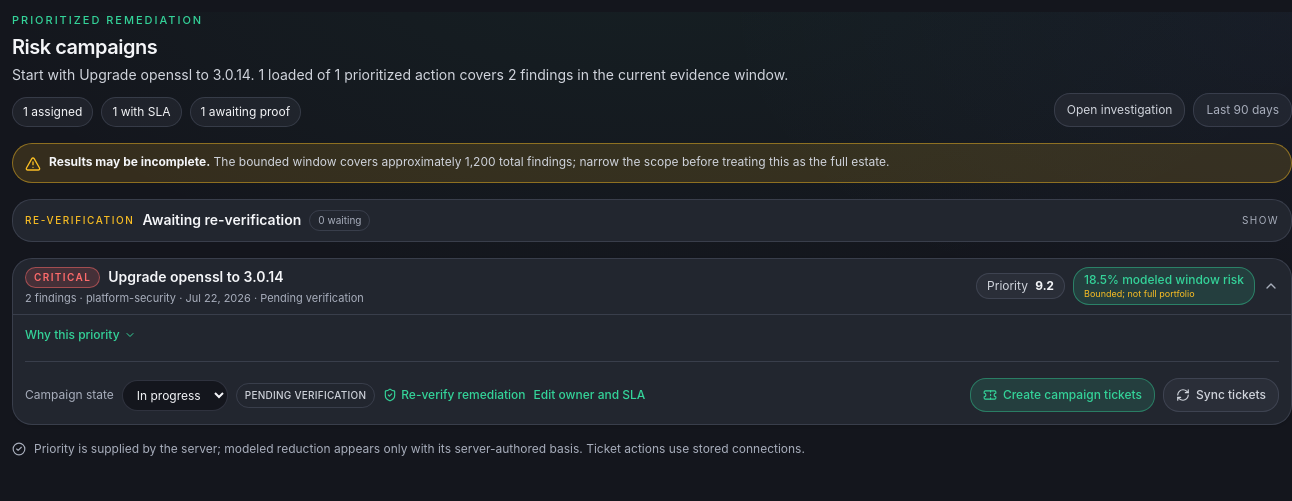
Test case: RiskCampaignCommandCenter › reports partial ticket sync using the synced count
Check: the heading "Upgrade openssl to 3.0.14" is shown, box [108,267,284,287]
Click the button "Sync tickets": (1221, 395) [1163,378,1279,412]
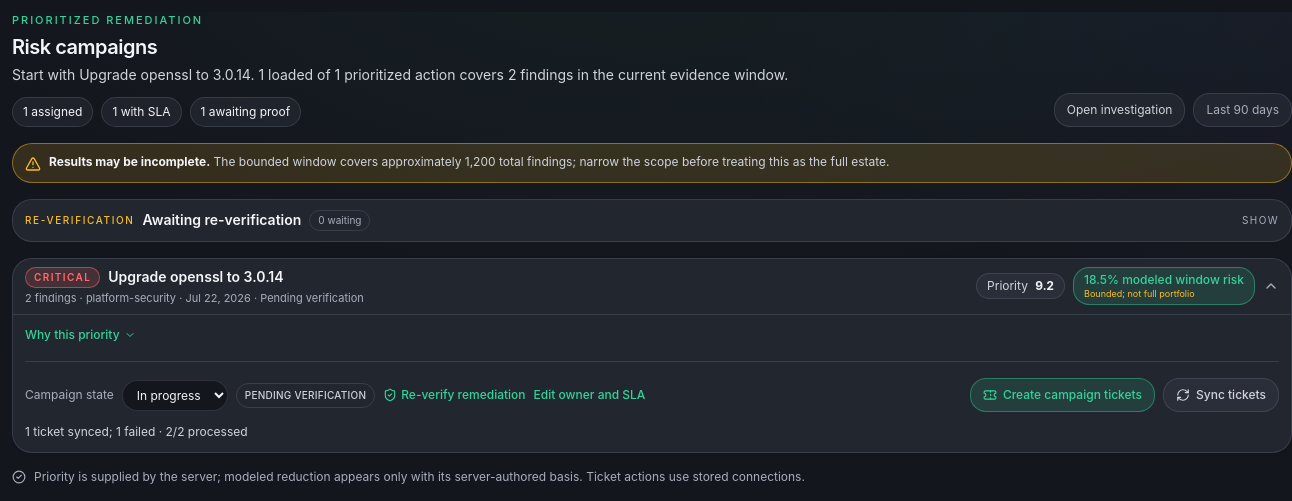
Check: the text "1 ticket synced; 1 failed · 2/2 processed" is shown, box [25,424,248,439]
